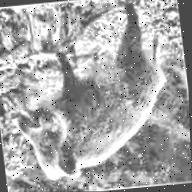boar: (0, 2, 175, 188)
